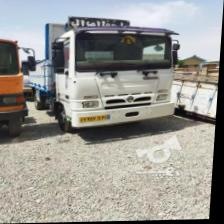plate: (81, 114, 114, 123)
